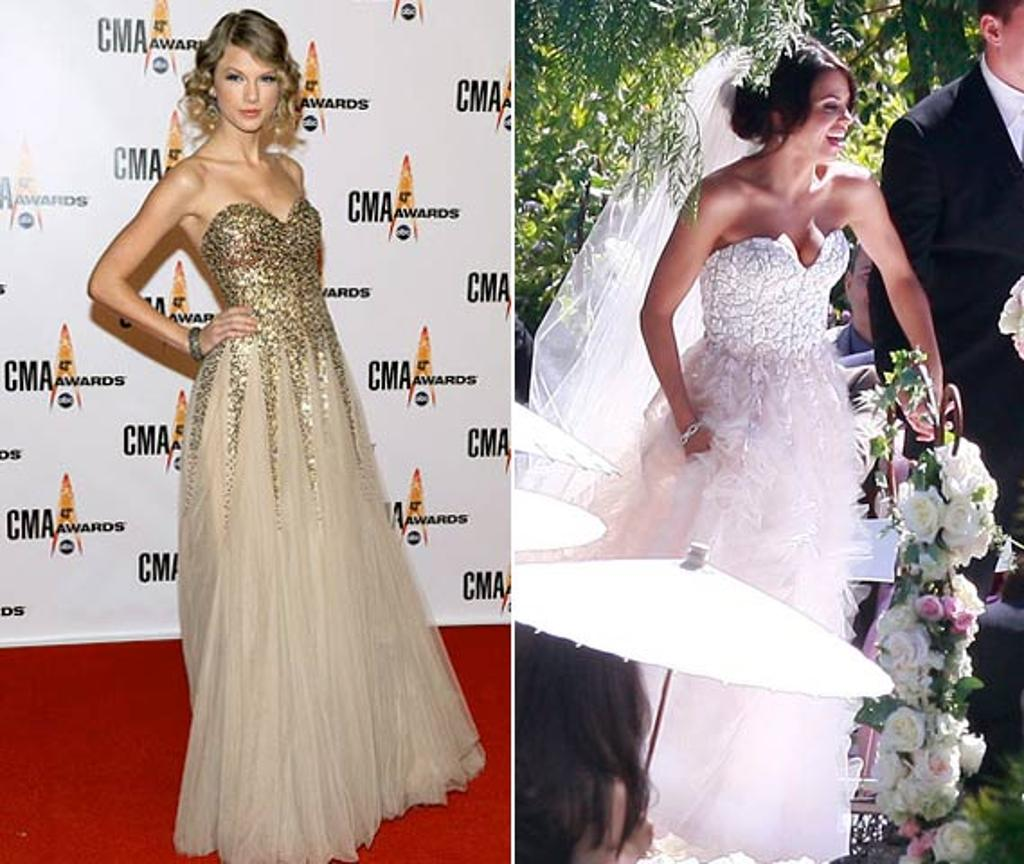face: (786, 68, 850, 164), (214, 42, 276, 130)
